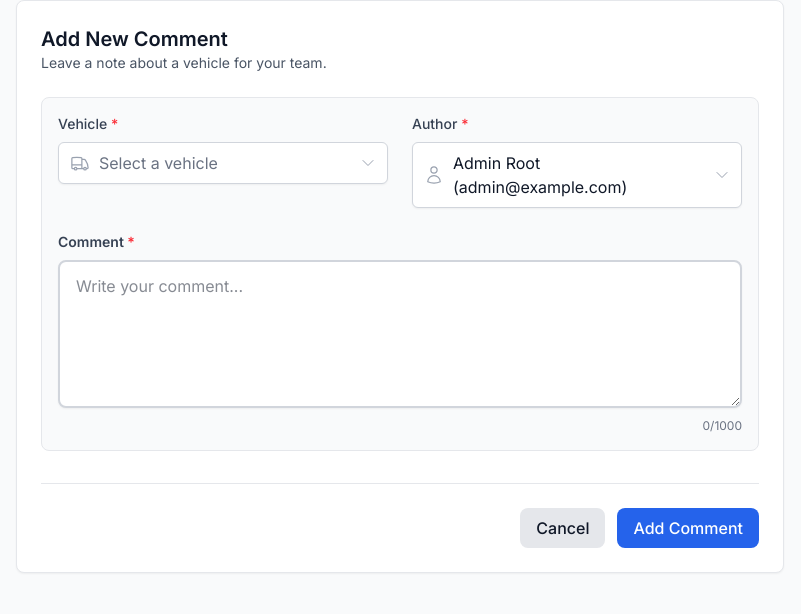
Test case: CommentForm › requires text and a vehicle
This screenshot has width=801, height=614.
Click the button "Add Comment" at x=688, y=528, box [617,508,759,548]
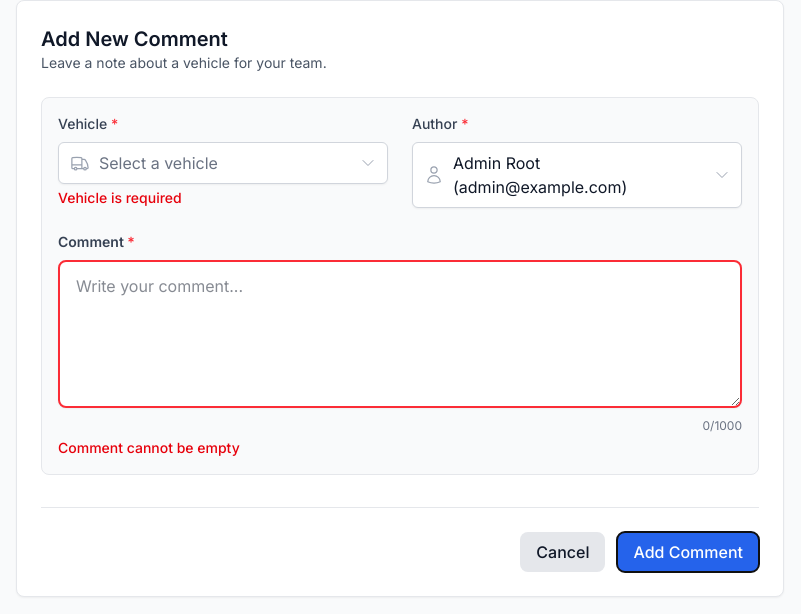
Expected: the text "Comment cannot be empty" is shown, [58,439,240,456]
Expected: the text "Vehicle is required" is shown, [58,189,182,206]
